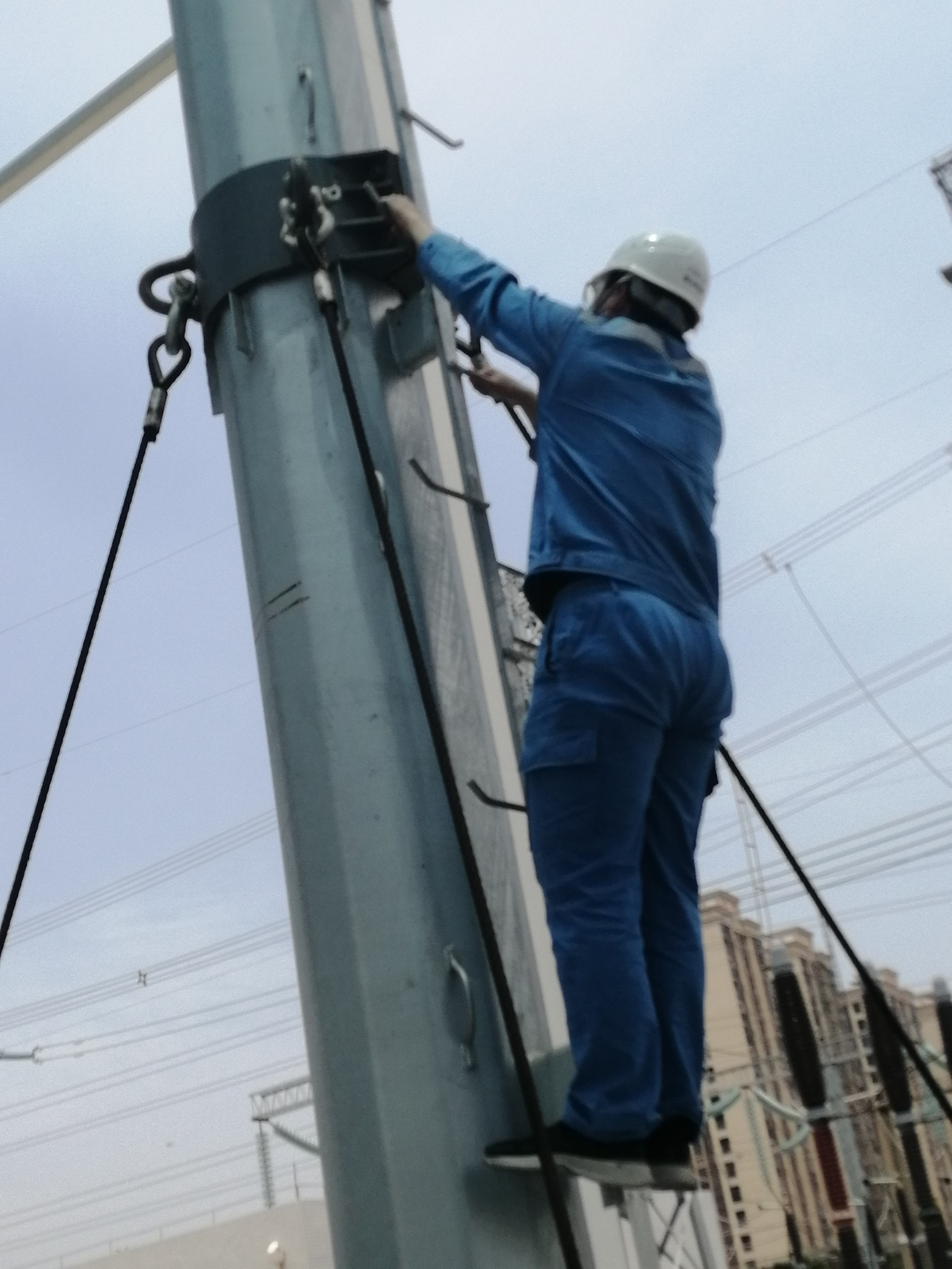未系安全绳的工作人员: (381, 189, 737, 1195)
